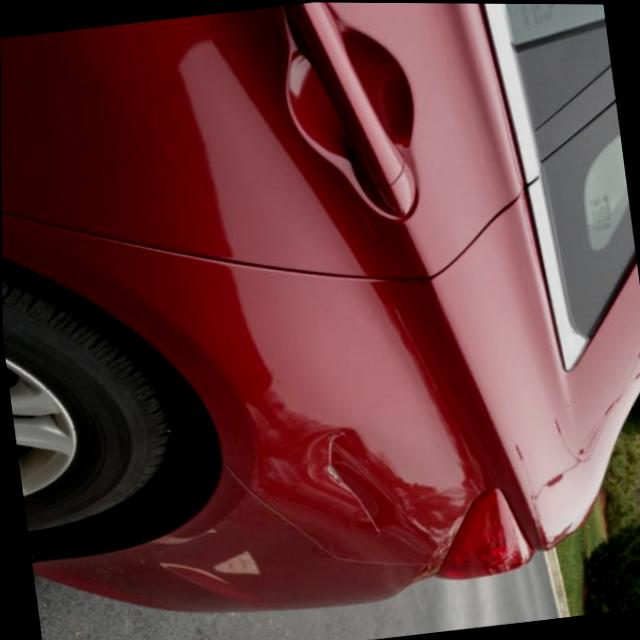Scratch: (322, 420, 385, 532)
